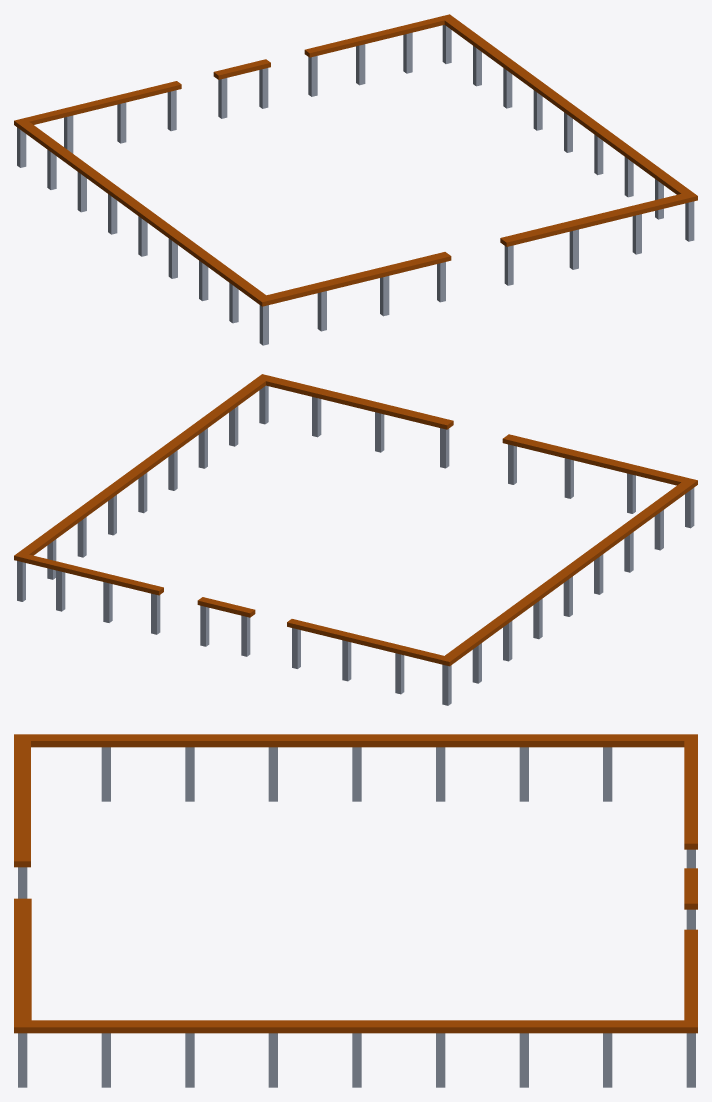
Rendered from Railing 3rd.fbx.
The picture shows the model from 3 angles, top to bottom: view 1: azimuth 30°, elevation 25°; view 2: azimuth 150°, elevation 25°; view 3: azimuth 270°, elevation 25°; orthographic projection. The views are drawn at different scales.
Visible parts, largest first — view 1: Railings.032; view 2: Railings.032; view 3: Railings.032.
Part boxes in pixels (left/top/right/bottom): Railings.032: left=14, top=14, right=697, bottom=345; Railings.032: left=14, top=374, right=697, bottom=705; Railings.032: left=14, top=734, right=697, bottom=1087.
Bounding box in the file's own units: 2027 × 200 × 2000.
